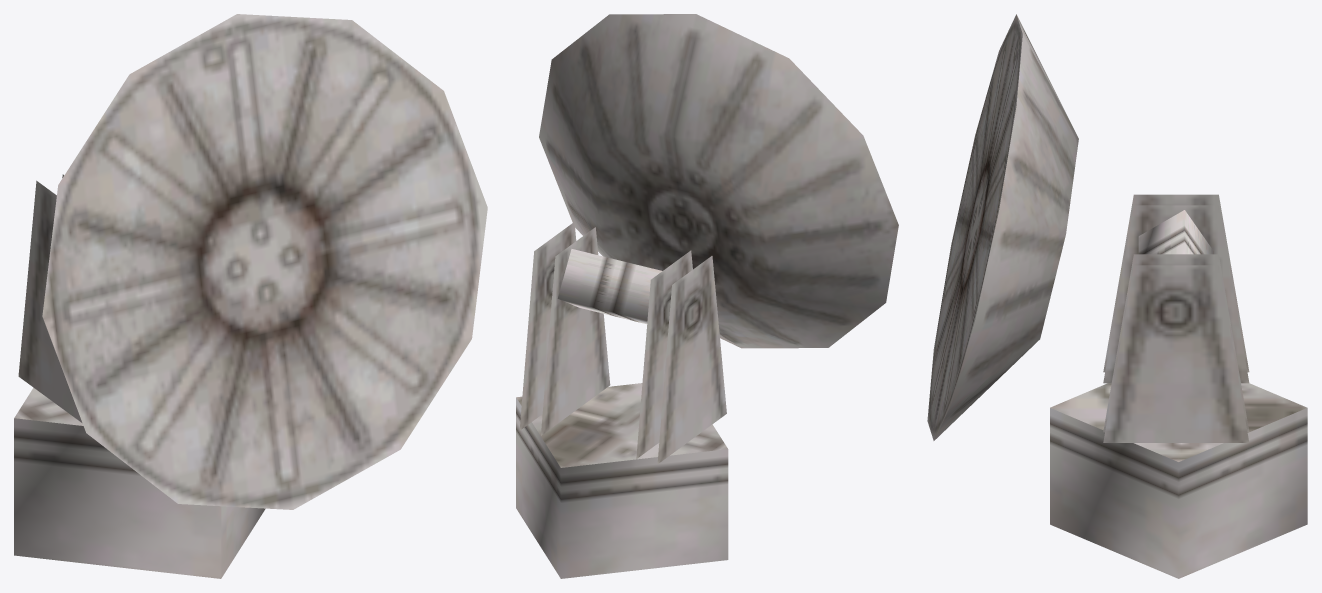
File: yt1300_radar_s01_l3.fbx
The picture shows the model from 3 angles, left to right: view 1: azimuth 30°, elevation 25°; view 2: azimuth 150°, elevation 25°; view 3: azimuth 270°, elevation 25°; orthographic projection. The views are drawn at different scales.
Parts seen in each view (by area): view 1: mesh_node; view 2: mesh_node; view 3: mesh_node.
Part boxes in pixels (box(x1,y1,x2,y2)): mesh_node: box(14, 14, 487, 578); mesh_node: box(516, 14, 898, 578); mesh_node: box(927, 14, 1307, 578).
Bounding box in the file's own units: 4.07 × 5.04 × 3.54.
1 material, 1 textured.
